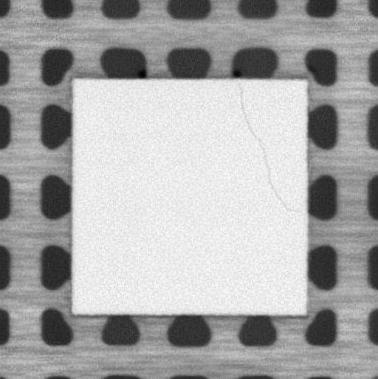DIE_CRACK: (239, 89, 298, 213)
